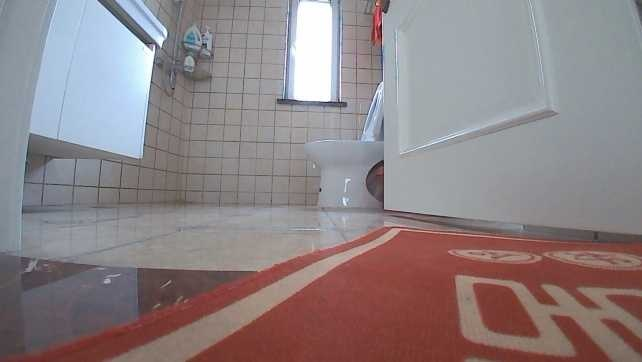blanket: (0, 224, 642, 361)
door_anno: (375, 0, 641, 237)
toilet: (301, 81, 385, 208)
